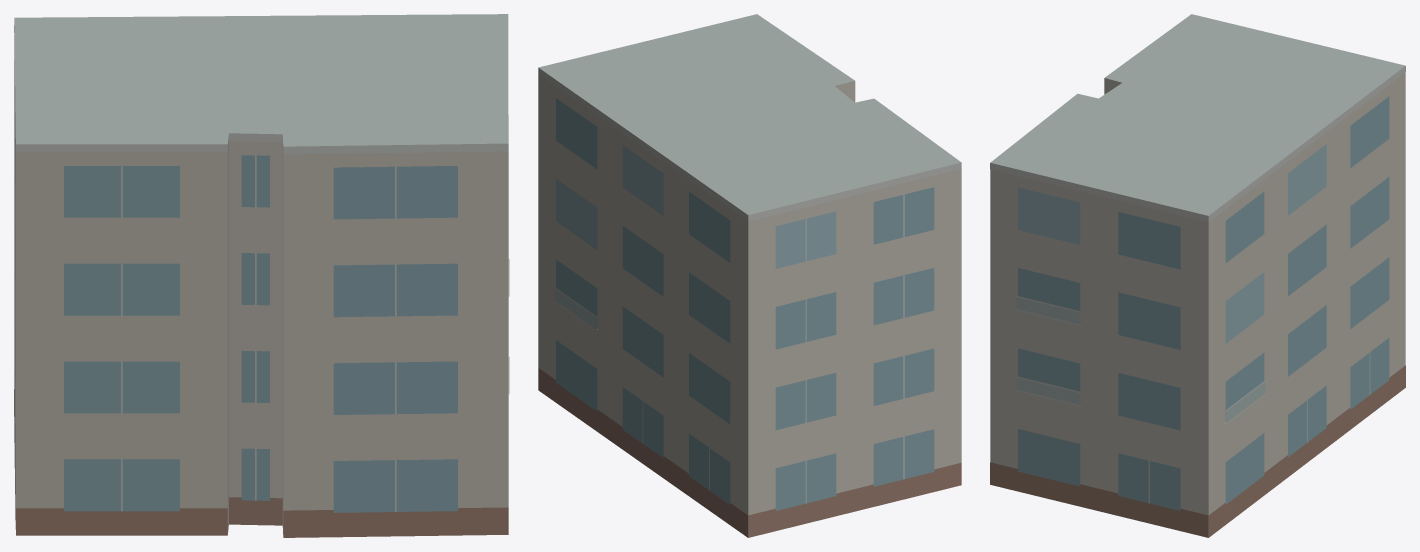
The model's file is survey-upis-32739443.glb.
3 views of the same model, side by side, from view 1: azimuth 30°, elevation 25°; view 2: azimuth 150°, elevation 25°; view 3: azimuth 270°, elevation 25° (orthographic). The views are drawn at different scales.
Parts seen in each view (by area): view 1: survey-upis-32739443.tmp; view 2: survey-upis-32739443.tmp; view 3: survey-upis-32739443.tmp.
Boxes of the visible parts, x1=… form: survey-upis-32739443.tmp: x1=14, y1=14, x2=509, y2=537; survey-upis-32739443.tmp: x1=538, y1=14, x2=961, y2=537; survey-upis-32739443.tmp: x1=990, y1=14, x2=1405, y2=537.
Bounding box in the file's own units: 16.42 × 12.2 × 14.28.
